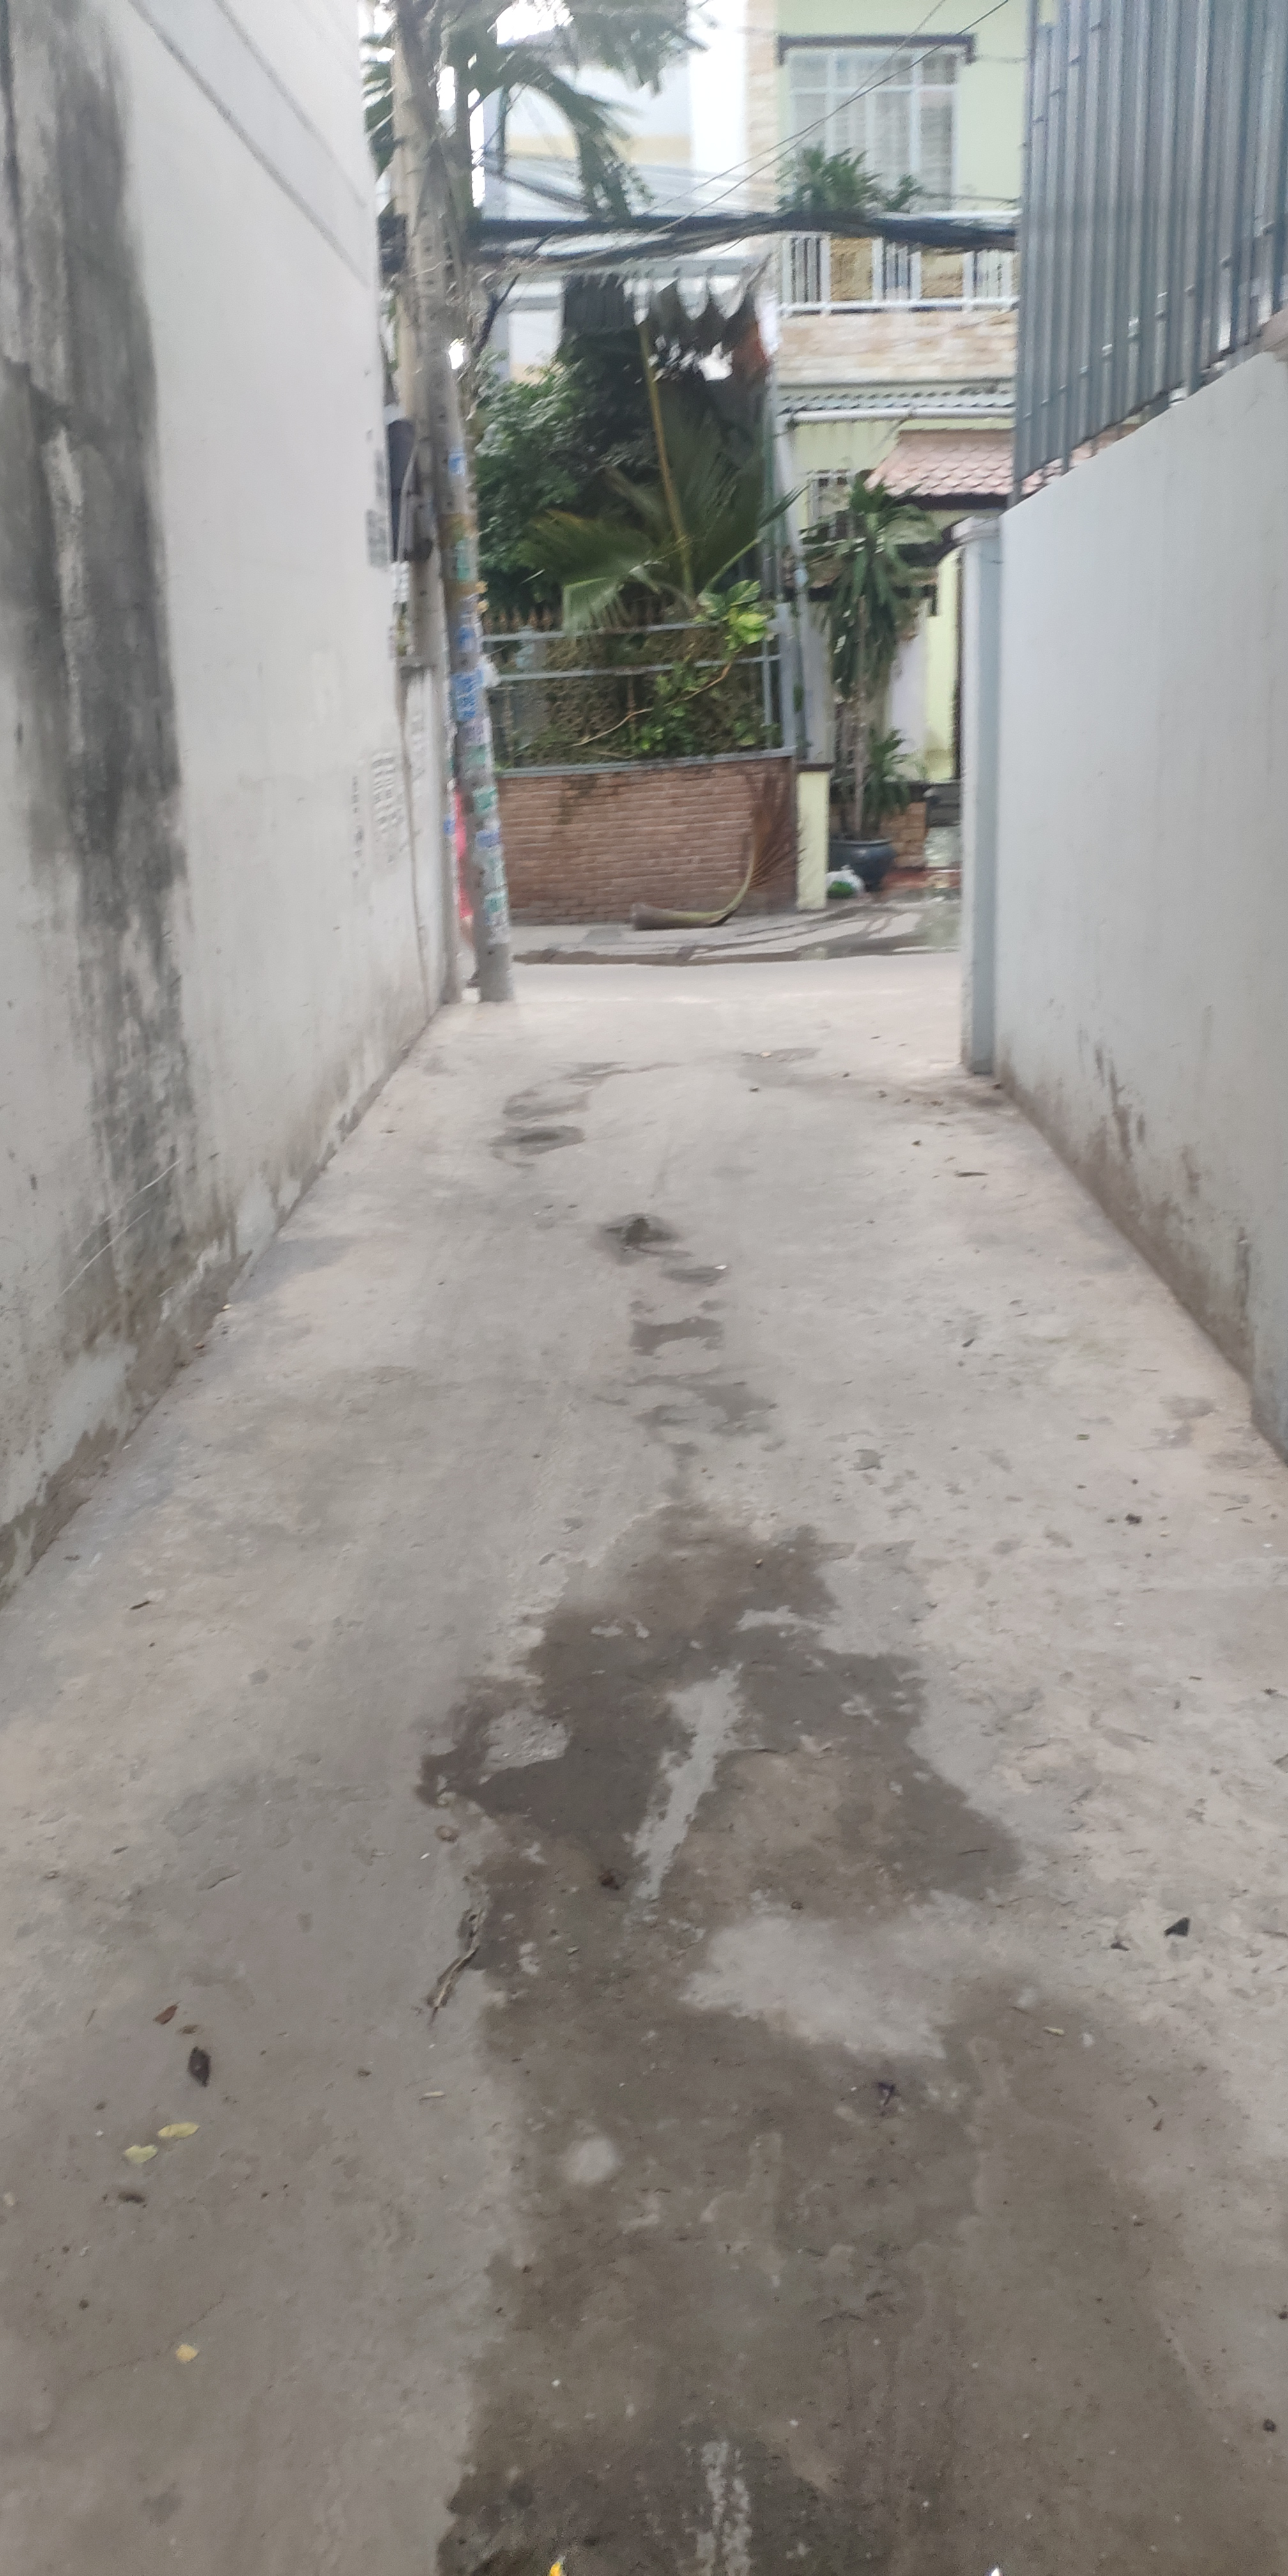hole: (605, 1209, 701, 1265), (498, 1114, 591, 1163)
